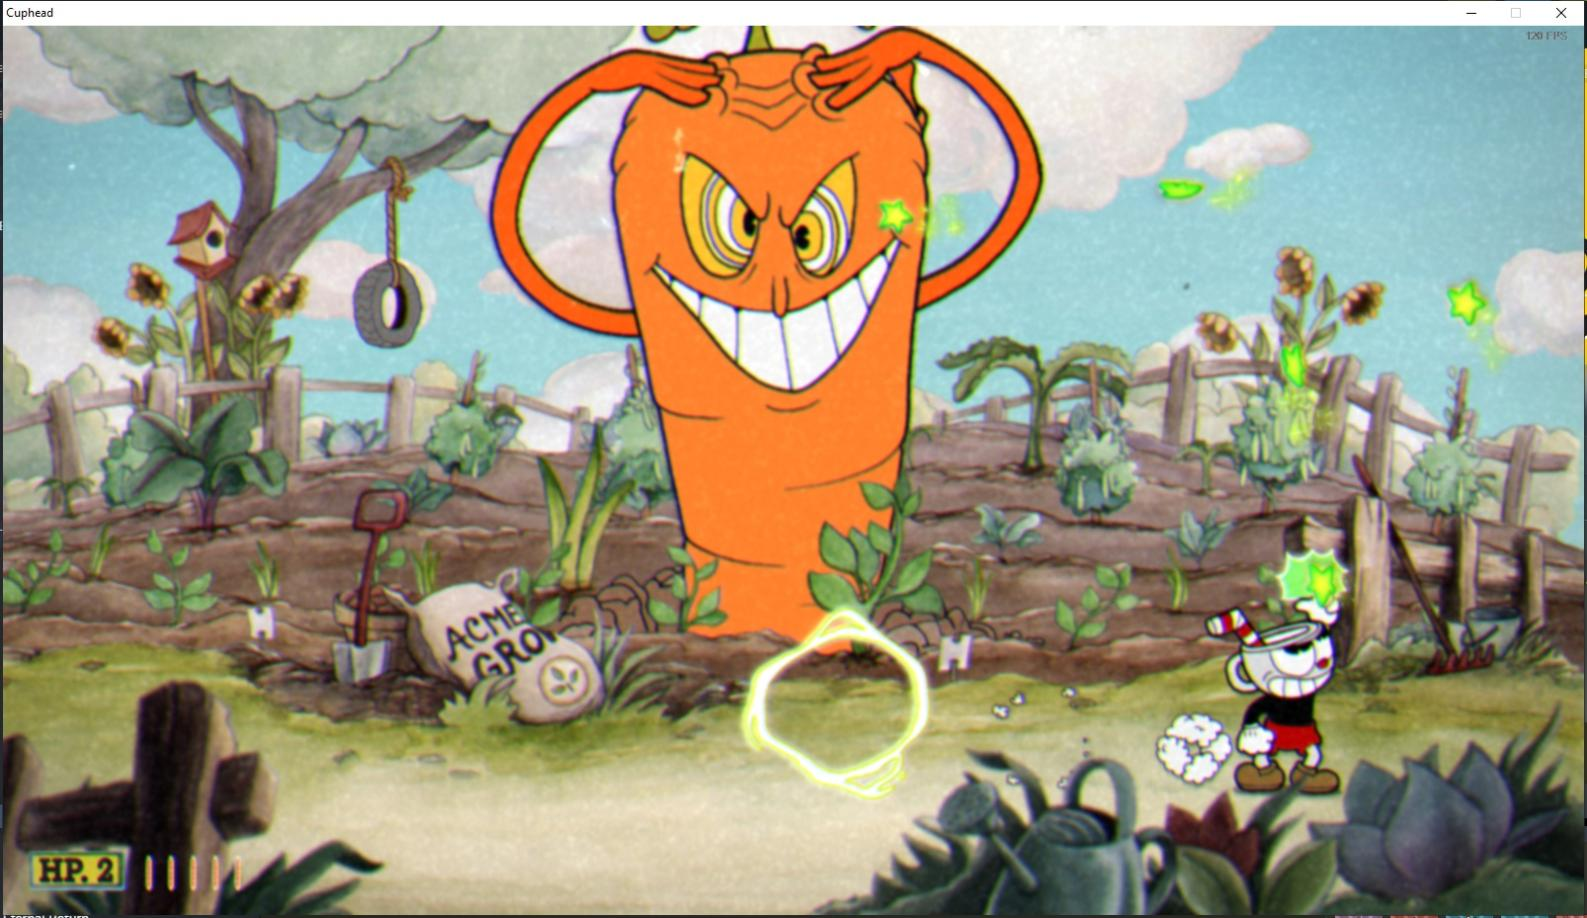carrot_boss: (578, 34, 968, 678)
player: (1203, 570, 1365, 802)
ring: (737, 603, 941, 802)
